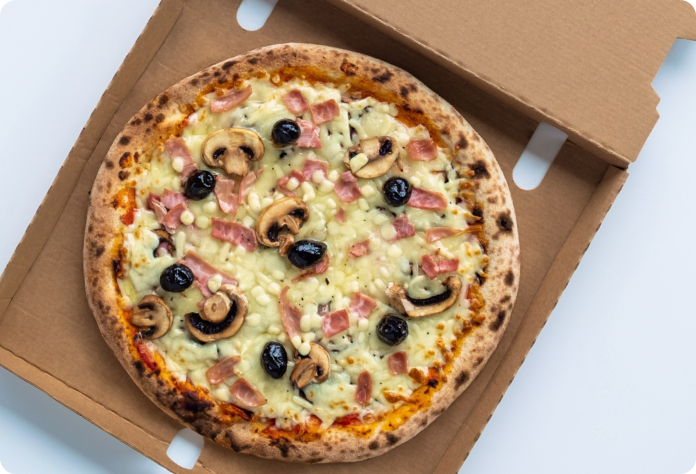Ham: (172, 252, 239, 298), (146, 190, 192, 230), (276, 286, 310, 338), (209, 218, 257, 252), (207, 84, 254, 111), (165, 141, 199, 177), (201, 356, 240, 385), (228, 380, 271, 405), (315, 310, 352, 338), (343, 290, 376, 319), (211, 180, 238, 214), (409, 186, 445, 211), (419, 253, 458, 276), (238, 170, 261, 208), (334, 173, 363, 202), (352, 367, 372, 409), (300, 158, 329, 185), (382, 351, 411, 377), (310, 96, 338, 122), (277, 90, 307, 114), (295, 121, 321, 148), (386, 219, 415, 242), (275, 173, 305, 194), (408, 142, 437, 160), (427, 228, 463, 240), (348, 242, 373, 257)
Olives: (180, 165, 217, 203), (284, 239, 327, 269), (258, 341, 289, 380), (158, 262, 194, 293), (380, 176, 411, 207), (378, 314, 408, 346), (269, 119, 300, 147)
Pizza: (82, 44, 524, 465)
